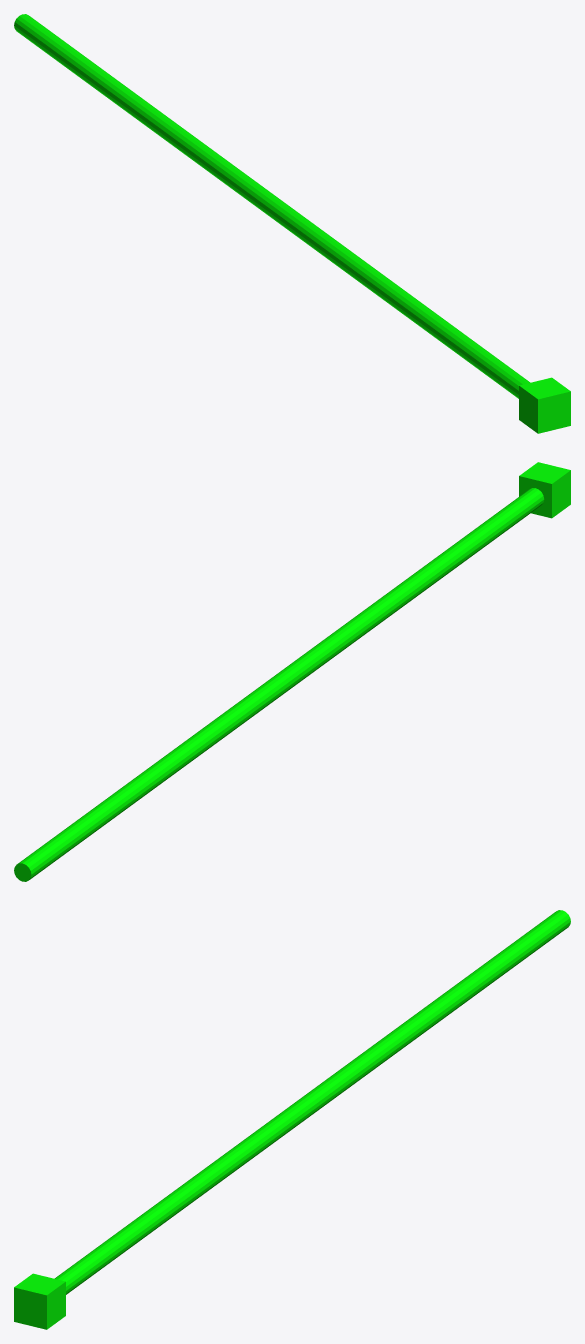
Rendered from Scale_Y.glb.
The picture shows the model from 3 angles, top to bottom: view 1: azimuth 30°, elevation 25°; view 2: azimuth 150°, elevation 25°; view 3: azimuth 330°, elevation 25°; orthographic projection.
Parts seen in each view (by area): view 1: Scale_Y; view 2: Scale_Y; view 3: Scale_Y.
Part boxes in pixels (<box>): Scale_Y: <box>14,14,570,433</box>; Scale_Y: <box>14,462,570,881</box>; Scale_Y: <box>14,910,570,1329</box>.
Bounding box in the file's own units: 0.008 × 0.008 × 0.224.
